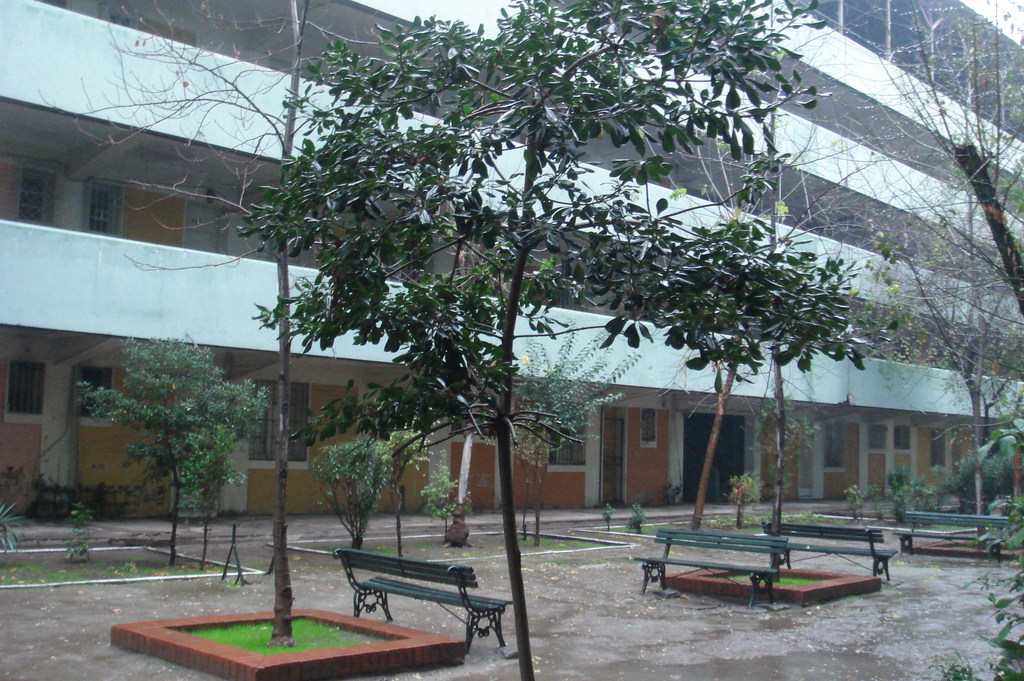Tree: (42, 0, 843, 680), (819, 0, 1021, 680), (101, 331, 250, 557), (480, 332, 693, 446), (310, 442, 402, 527)
